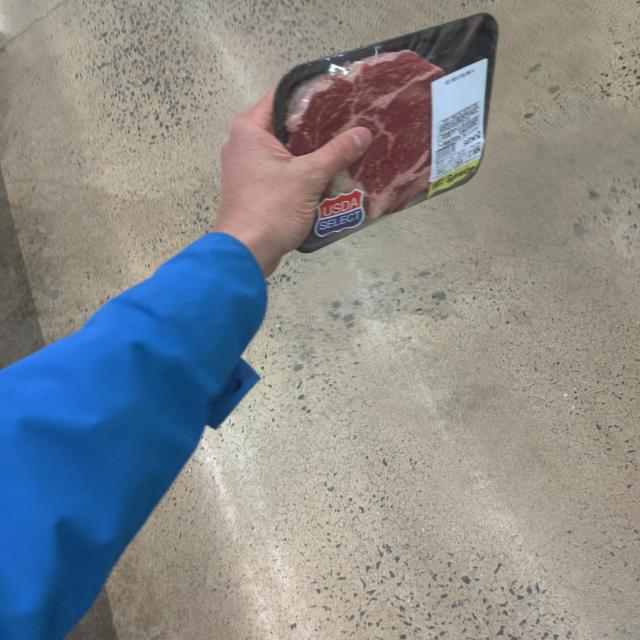Meat: (274, 15, 499, 250)
